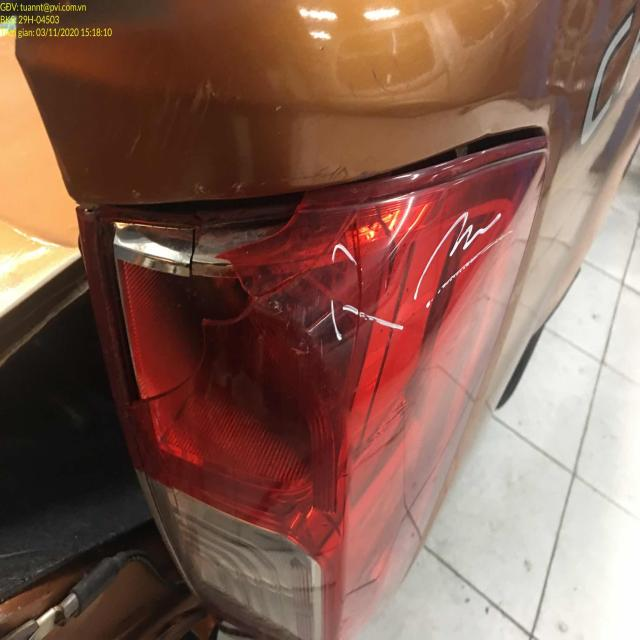Dechirure: (384, 110, 555, 178), (106, 176, 312, 229)
Phare abime: (117, 172, 309, 414)
